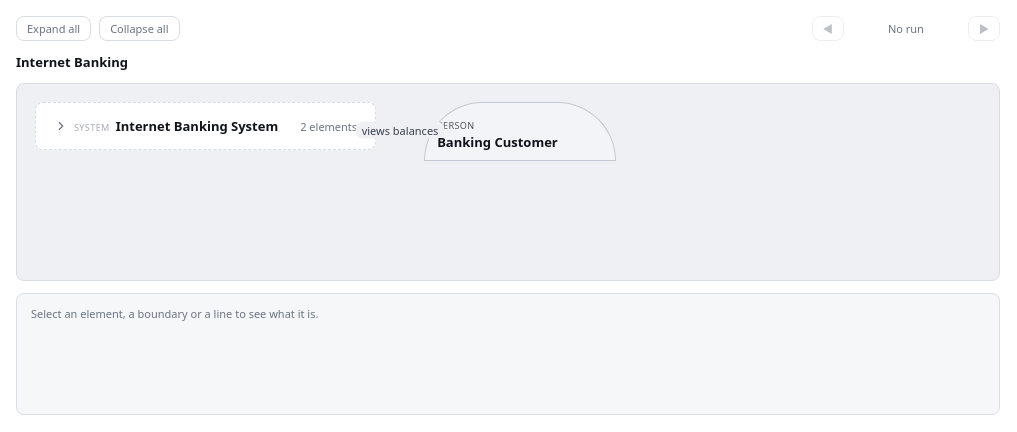
Test case: C4Chart › opens a boundary when its chevron is used, and shuts it again
Click the button "System Internet Banking System" at (166, 126), box [47,114,285,138]
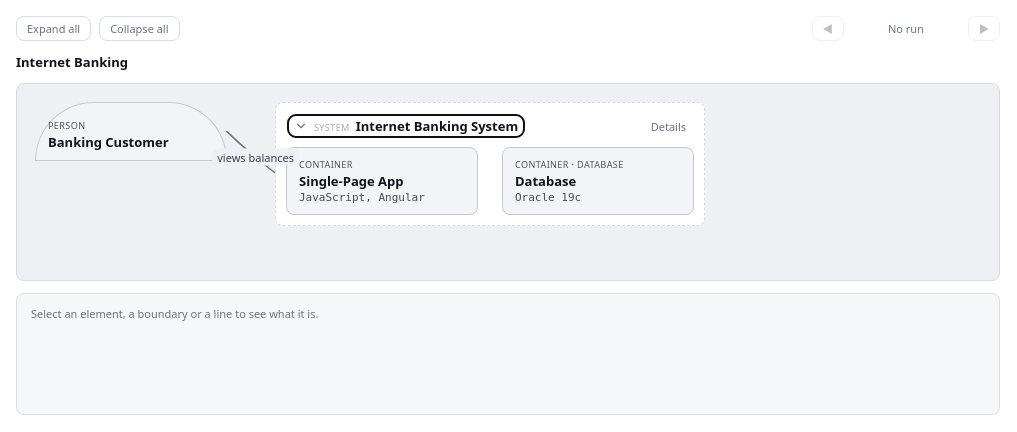
Expected: the text "Single-Page App" is shown, [299,173,404,189]
Click the button "System Internet Banking System" at (406, 126), box [287,114,525,138]
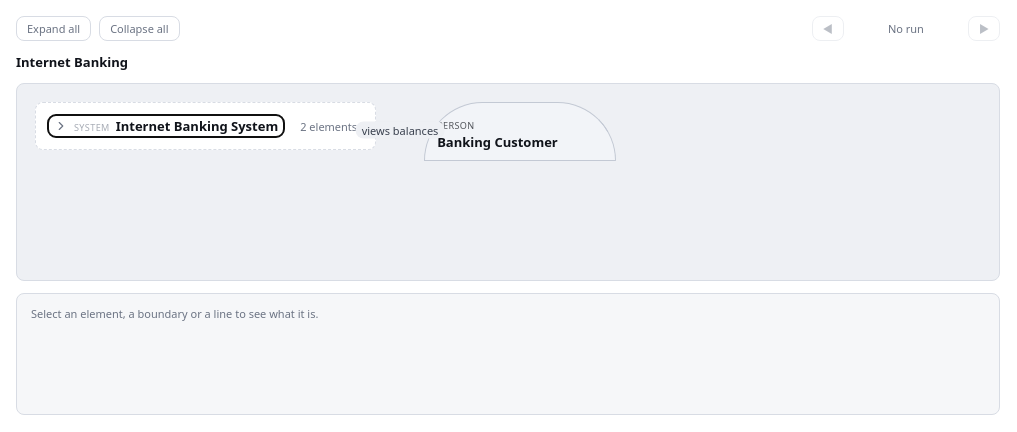
Expected: the button "Single-Page App" is gone
